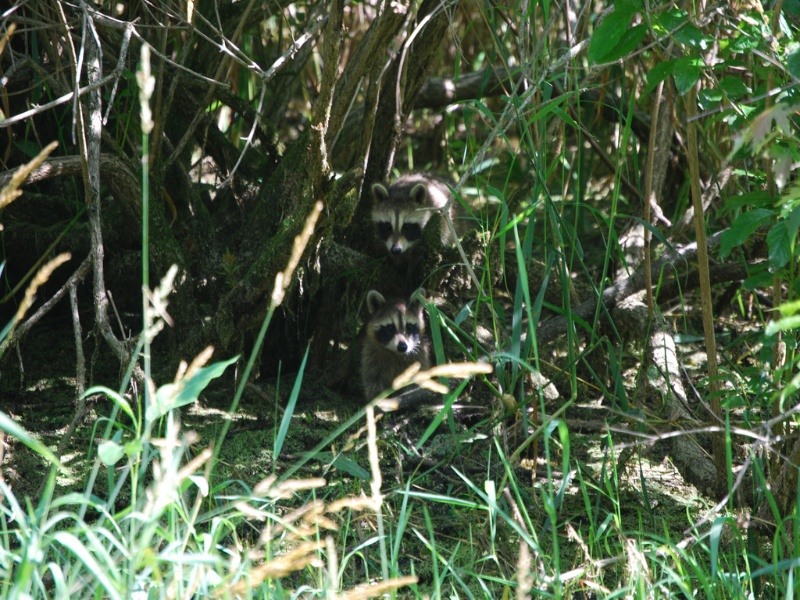raccoon: (366, 164, 464, 277), (359, 285, 440, 412)
